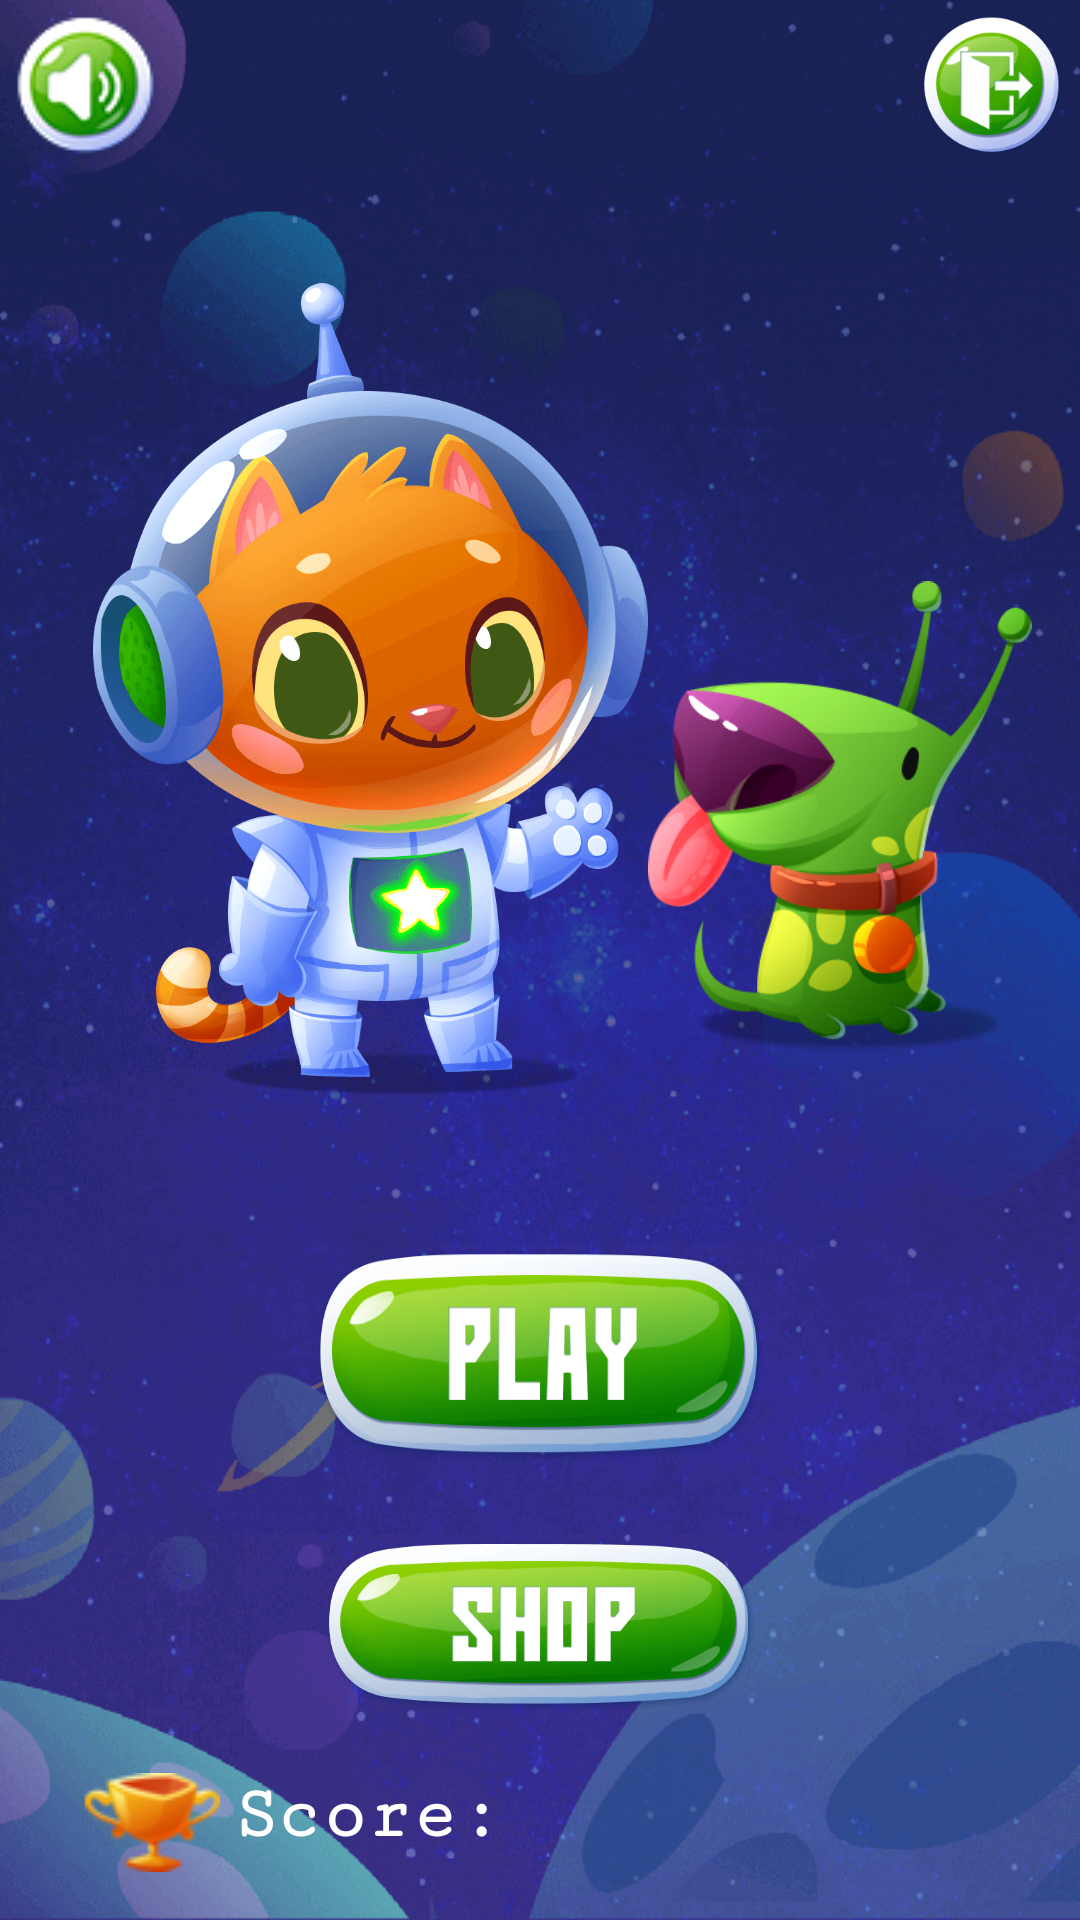

Icon click points for this 1080x1920 phone screenshot, format point (x, y):
sound: point (87, 87)
